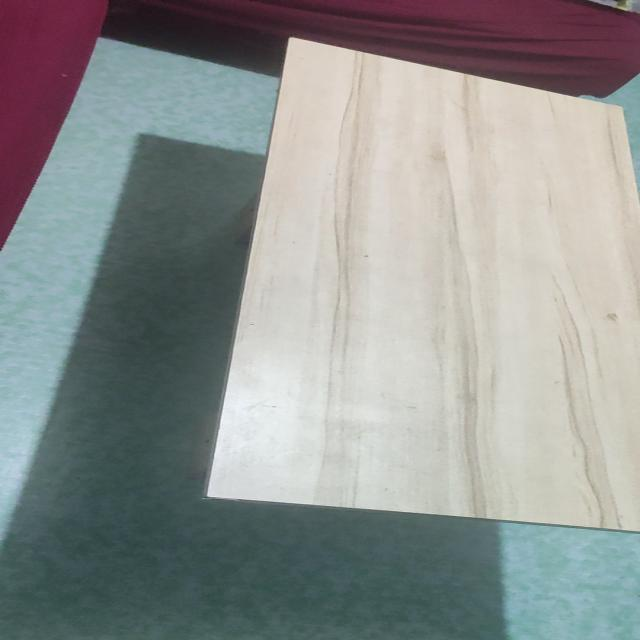table: (168, 34, 640, 552)
